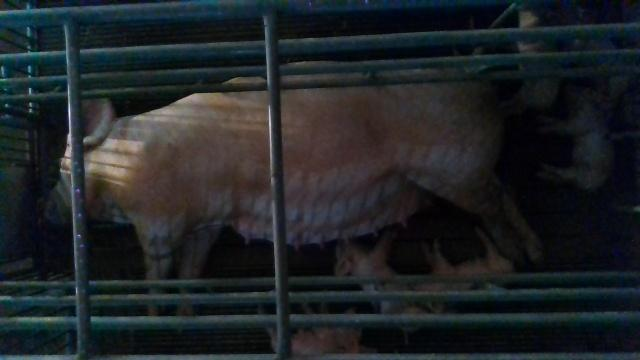piglet: (411, 224, 515, 314), (535, 82, 614, 190), (335, 236, 426, 316), (500, 9, 561, 118), (256, 299, 363, 356)
sow-sleep-lactate: (45, 60, 545, 334)
